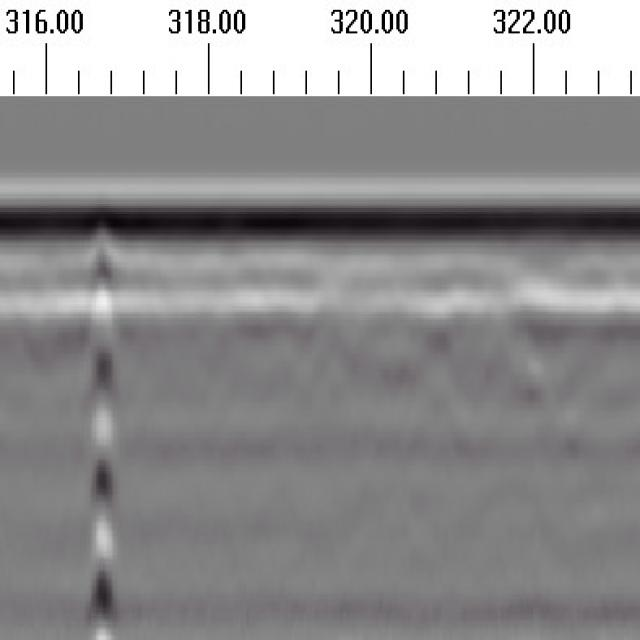crack: (87, 231, 118, 639)
